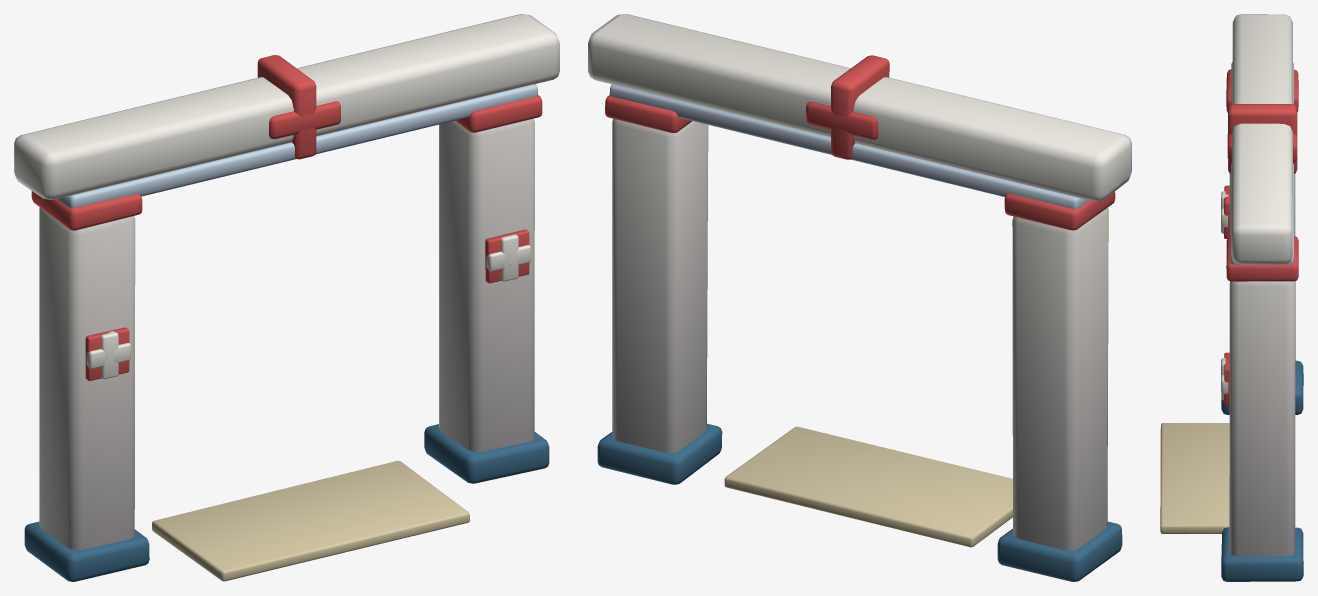
3 views of the same model, side by side, from view 1: azimuth 30°, elevation 25°; view 2: azimuth 150°, elevation 25°; view 3: azimuth 270°, elevation 25° (orthographic). The views are drawn at different scales.
Parts seen in each view (by area): view 1: gate_1e08734c; view 2: gate_1e08734c; view 3: gate_1e08734c.
Boxes of the visible parts, x1=… form: gate_1e08734c: x1=14, y1=14, x2=559, y2=581; gate_1e08734c: x1=588, y1=14, x2=1131, y2=581; gate_1e08734c: x1=1160, y1=14, x2=1303, y2=581.
Bounding box in the file's own units: 5.01 × 4.07 × 1.4.
